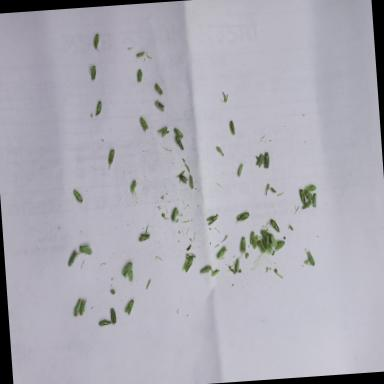pbw: (72, 298, 83, 317), (138, 224, 150, 241), (124, 298, 135, 316), (266, 218, 280, 232), (121, 261, 133, 277), (260, 228, 272, 244), (256, 239, 268, 255), (234, 212, 250, 224), (107, 148, 115, 170), (240, 236, 248, 258), (274, 238, 286, 252), (78, 298, 87, 316), (98, 318, 116, 327), (129, 180, 138, 198), (216, 245, 228, 258), (183, 258, 194, 272), (302, 186, 312, 201), (156, 126, 168, 138), (72, 188, 82, 202), (174, 136, 184, 150), (93, 34, 101, 51), (90, 64, 98, 81), (262, 152, 270, 169), (80, 244, 92, 255), (269, 232, 277, 248), (140, 116, 148, 132), (251, 234, 259, 250), (155, 100, 165, 112), (170, 207, 178, 222), (307, 251, 315, 266), (174, 127, 184, 139), (154, 82, 162, 96), (299, 188, 306, 204), (206, 215, 217, 225), (110, 307, 116, 324), (128, 268, 134, 285), (178, 174, 188, 184), (136, 69, 143, 83), (95, 101, 102, 115), (304, 184, 316, 192), (312, 192, 318, 208), (200, 266, 212, 274), (249, 231, 256, 244), (234, 258, 240, 273), (228, 120, 234, 135), (238, 163, 244, 177), (188, 174, 194, 188), (302, 201, 312, 209), (216, 146, 224, 156), (211, 268, 220, 276), (222, 90, 228, 100), (265, 184, 270, 195), (136, 52, 145, 57), (270, 187, 276, 193)
